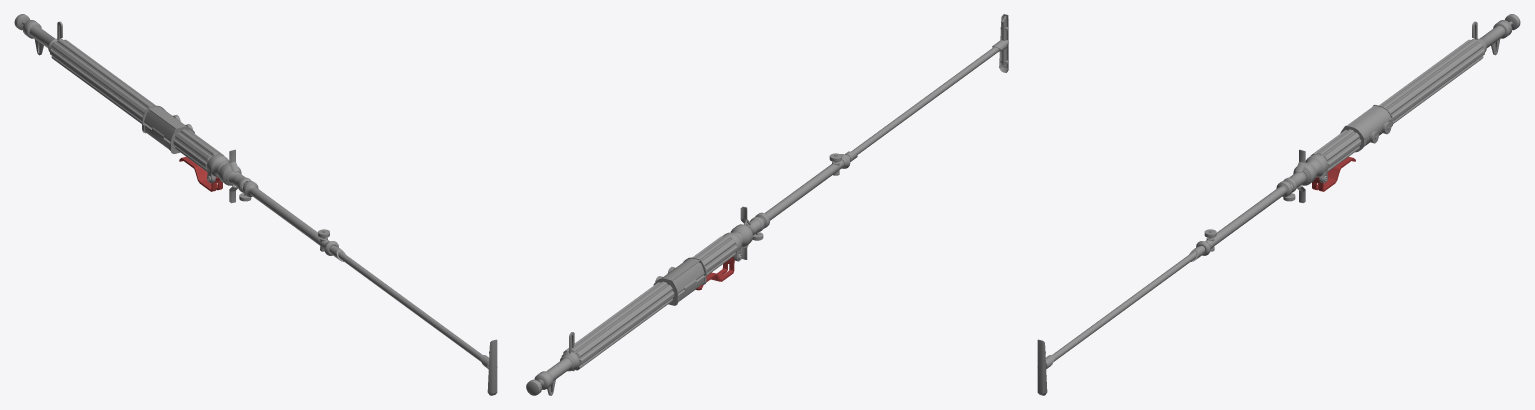
Rendered from WPN_Guard_ShockPilum.fbx.
3 views of the same model, side by side, from view 1: azimuth 30°, elevation 25°; view 2: azimuth 150°, elevation 25°; view 3: azimuth 330°, elevation 25° (orthographic).
Visible parts, largest first — view 1: WPN_Guard_ShockPilum; view 2: WPN_Guard_ShockPilum; view 3: WPN_Guard_ShockPilum.
Part boxes in pixels (<box>): WPN_Guard_ShockPilum: <box>14,14,497,395</box>; WPN_Guard_ShockPilum: <box>526,14,1008,395</box>; WPN_Guard_ShockPilum: <box>1037,14,1520,395</box>.
Bounding box in the file's own units: 19.94 × 37.66 × 571.
